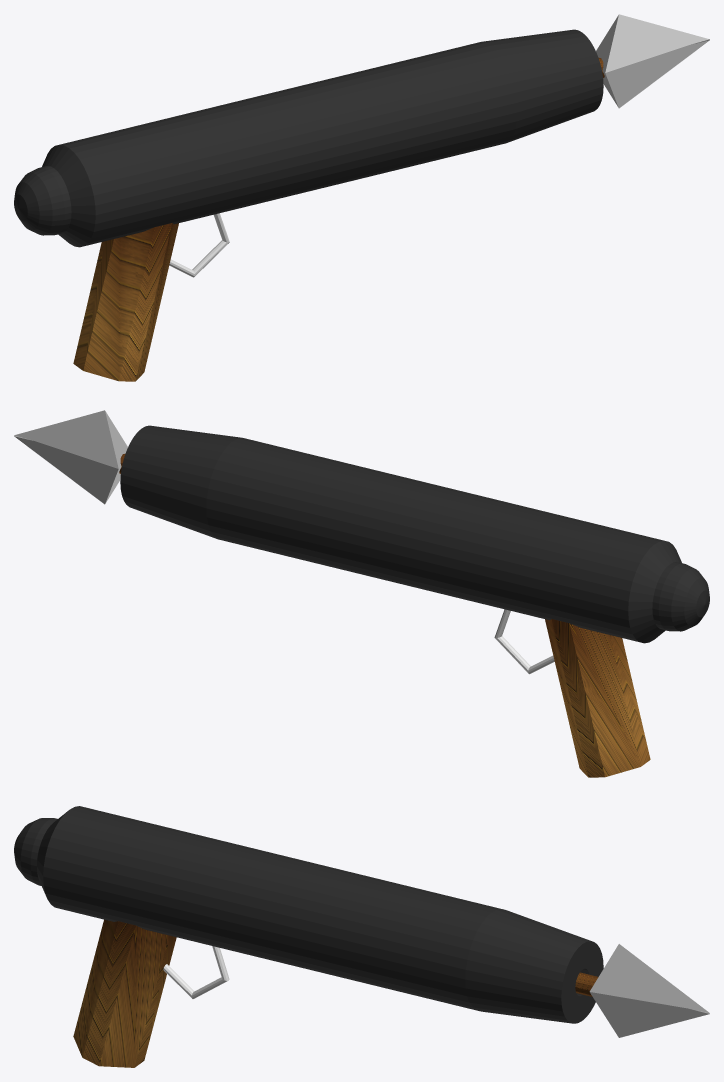
The model's file is graplin.fbx.
3 renders of one model, top to bottom at view 1: azimuth 30°, elevation 25°; view 2: azimuth 150°, elevation 25°; view 3: azimuth 330°, elevation 25°, orthographic.
Visible parts, largest first — view 1: Cylinder, Cone; view 2: Cylinder, Cone; view 3: Cylinder, Cone.
Boxes of the visible parts, x1,y1,x2,y2 form: Cylinder: (14, 29, 603, 381); Cone: (596, 14, 709, 108); Cylinder: (120, 425, 709, 777); Cone: (14, 410, 127, 504); Cylinder: (14, 806, 603, 1067); Cone: (575, 944, 709, 1037).
Bounding box in the file's own units: 33.71 × 11.08 × 4.44.
